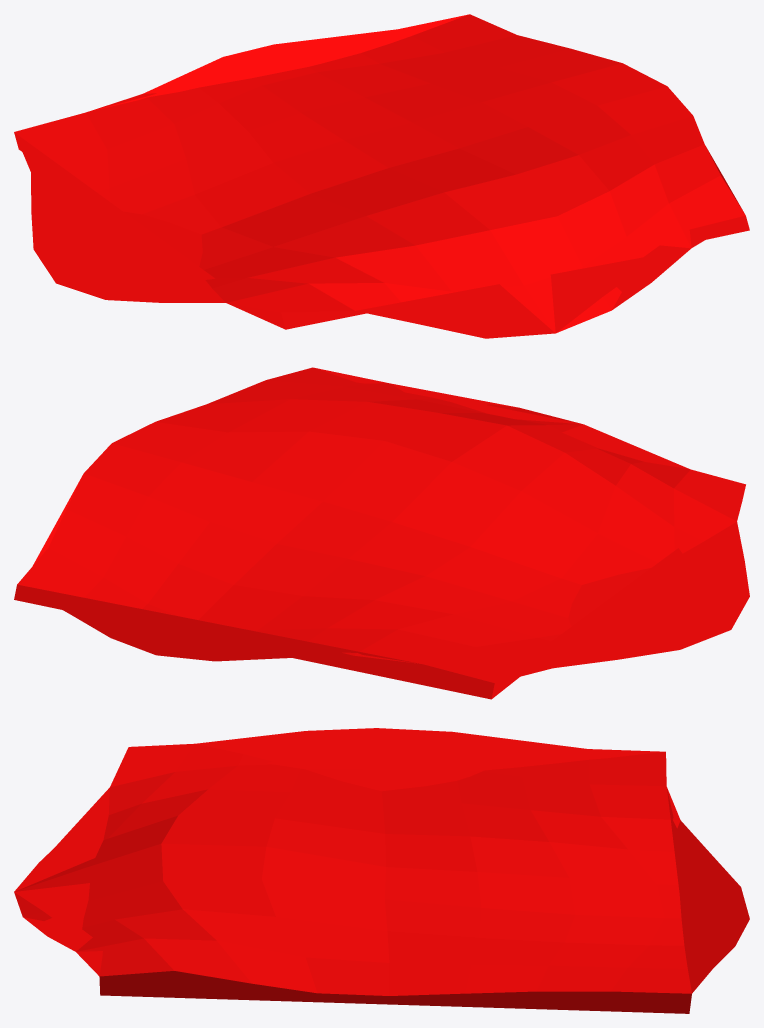
The model's file is mustard.gltf.
3 renders of one model, top to bottom at view 1: azimuth 30°, elevation 25°; view 2: azimuth 150°, elevation 25°; view 3: azimuth 270°, elevation 25°, orthographic. The views are drawn at different scales.
Parts seen in each view (by area): view 1: Plane.001; view 2: Plane.001; view 3: Plane.001.
Boxes of the visible parts, left/top/right/bottom form: Plane.001: left=14, top=14, right=749, bottom=338; Plane.001: left=14, top=367, right=749, bottom=699; Plane.001: left=14, top=728, right=749, bottom=1013.
Bounding box in the file's own units: 2.2 × 0.1751 × 2.2.
